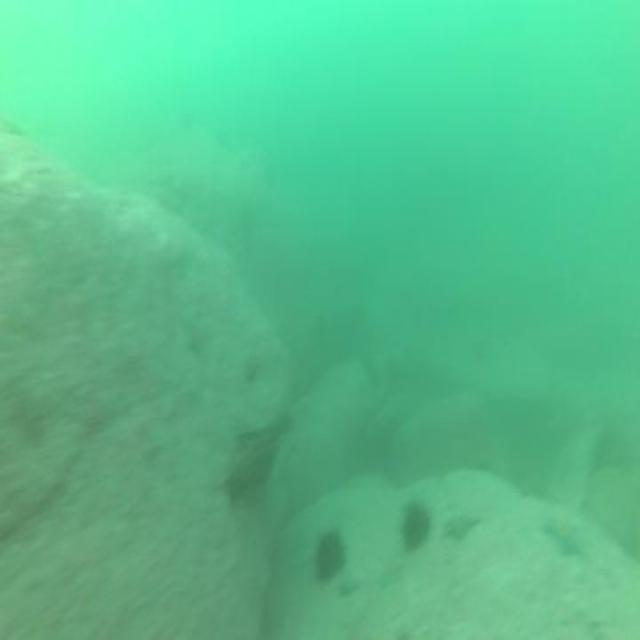echinus: (311, 523, 349, 588), (396, 495, 433, 556)
starfish: (538, 504, 589, 561), (441, 509, 481, 547)
